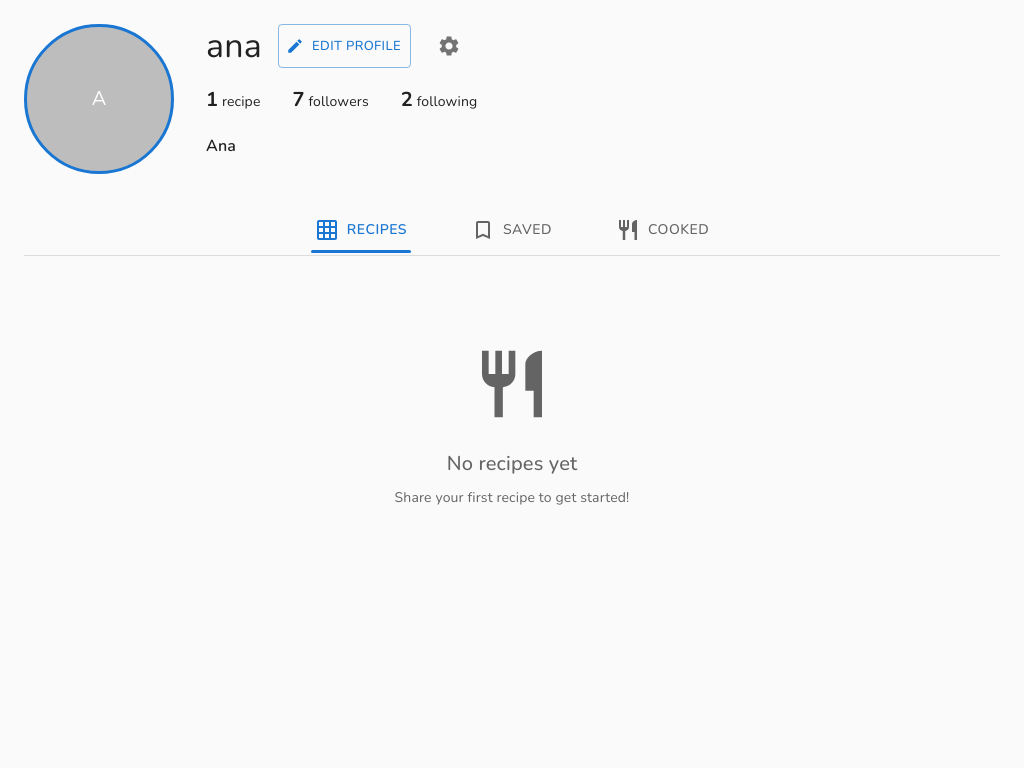
Test case: the profile page › your Saved tab › says the recipe is still there when the unsave fails for want of a connection
Click the button "Saved".
click(528, 230)  # box [503,218,552,242]
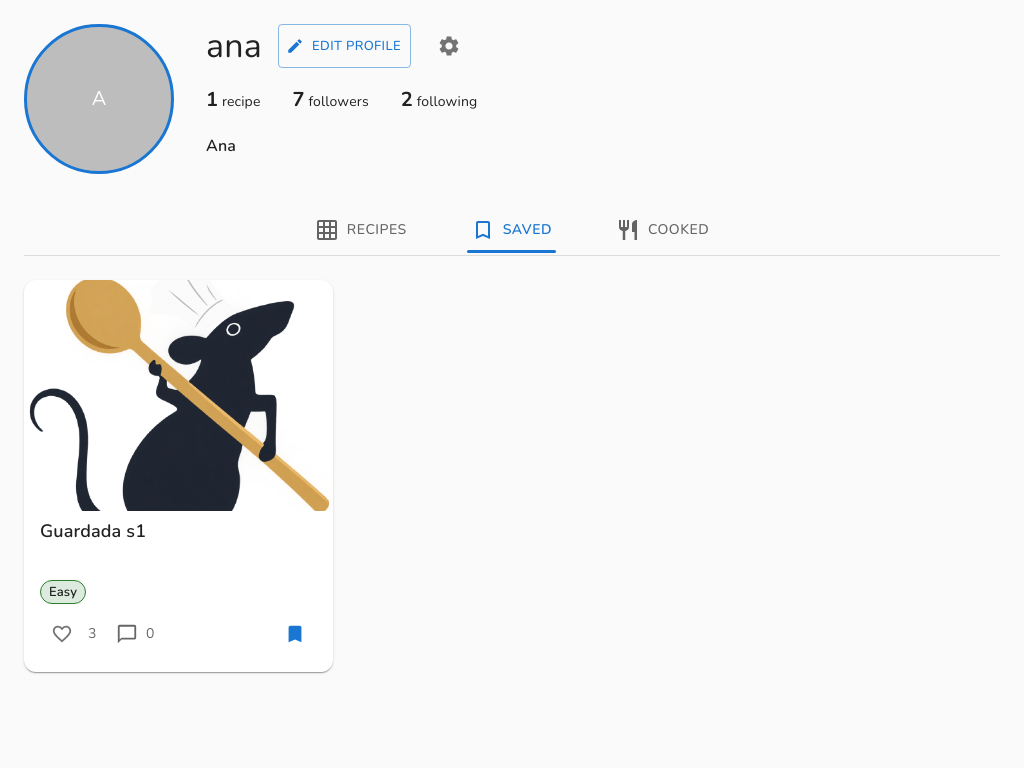
Expected: the link "Guardada s1" is shown, [40,519,146,543]
Click the button named "Remove from saved".
click(295, 634)  # box [273,612,317,656]
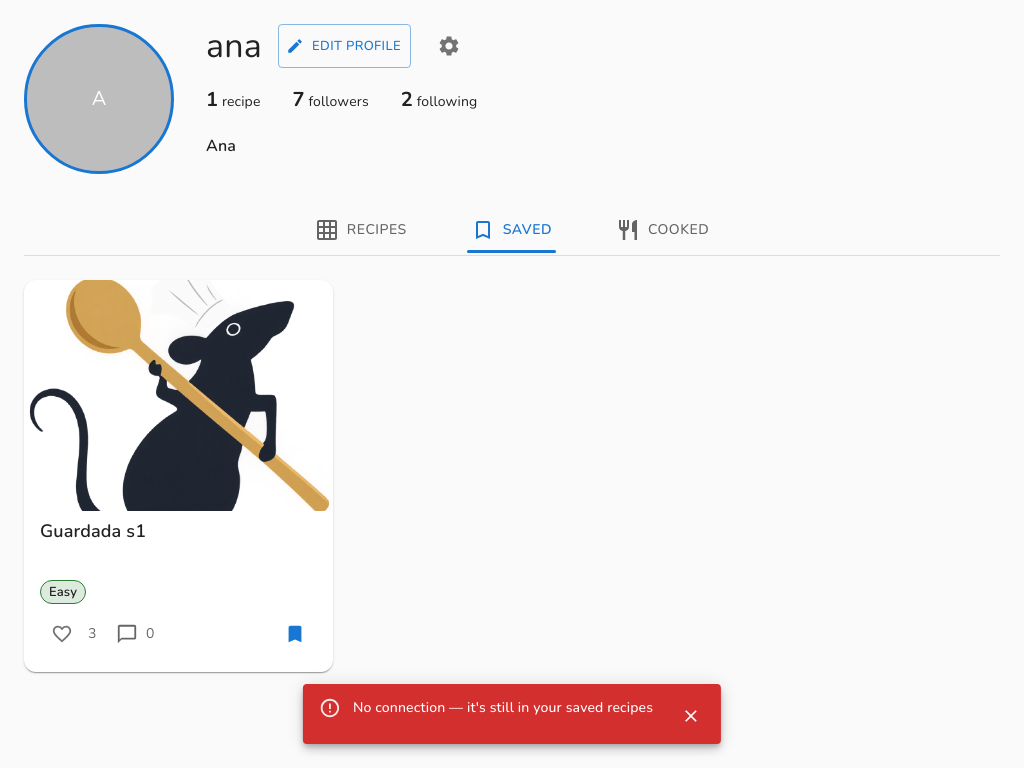
Expected: the link "Guardada s1" is shown, [40,519,146,543]
Expected: the text "No connection — it's still in your saved recipes" is shown, [353,698,653,717]
